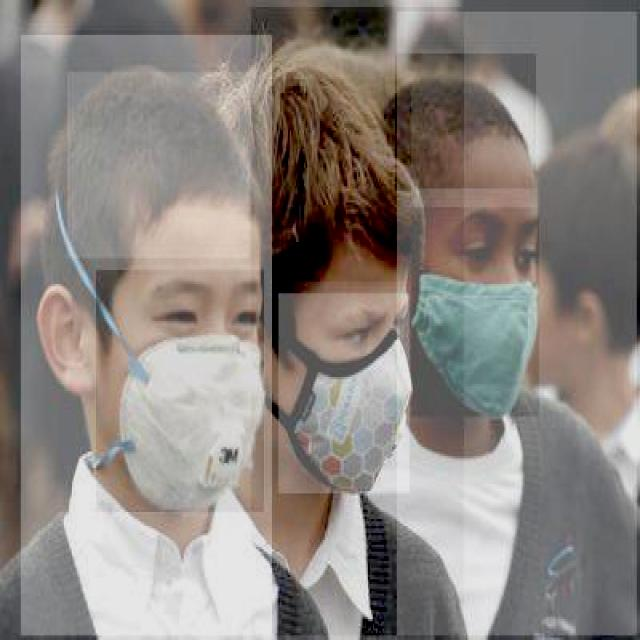face_mask: (96, 270, 266, 514), (278, 293, 412, 496), (411, 207, 539, 417)
head_nohelmet: (67, 72, 251, 261), (274, 79, 412, 284), (395, 53, 538, 191)
person: (20, 35, 274, 638), (397, 12, 638, 638), (251, 7, 464, 638)
